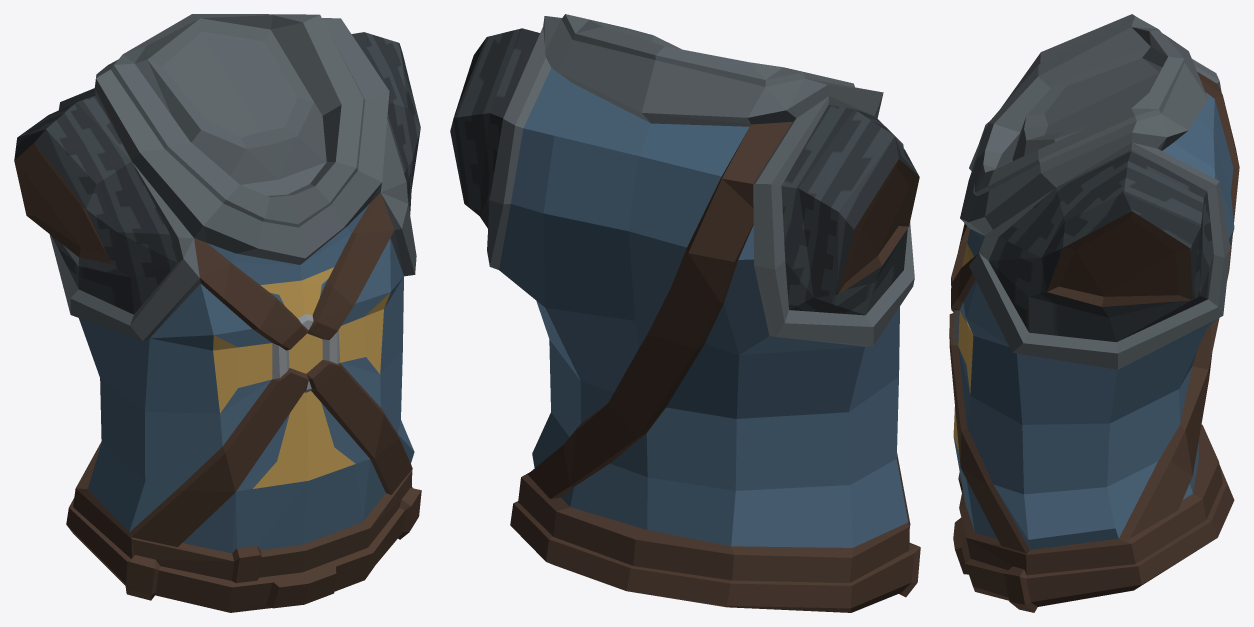
Rendered from Chr_Torso_Male_10_Static.fbx.
3 renders of one model, left to right at view 1: azimuth 30°, elevation 25°; view 2: azimuth 150°, elevation 25°; view 3: azimuth 270°, elevation 25°, orthographic. The views are drawn at different scales.
Parts seen in each view (by area): view 1: Chr_Torso_Male_10_Static; view 2: Chr_Torso_Male_10_Static; view 3: Chr_Torso_Male_10_Static.
Part boxes in pixels (left/top/right/bottom): Chr_Torso_Male_10_Static: left=14, top=14, right=421, bottom=612; Chr_Torso_Male_10_Static: left=450, top=14, right=920, bottom=612; Chr_Torso_Male_10_Static: left=949, top=14, right=1239, bottom=612.
Size of the model in its own units: 0.502 by 0.6684 by 0.3459.
